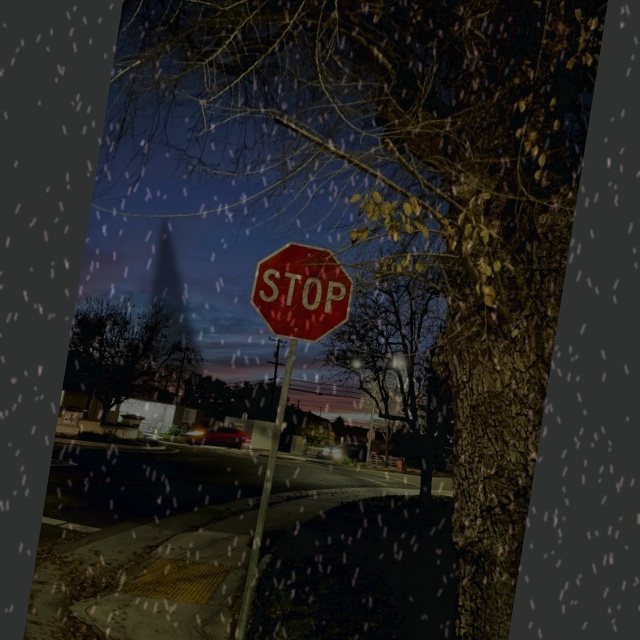Stop: (245, 238, 359, 348)
